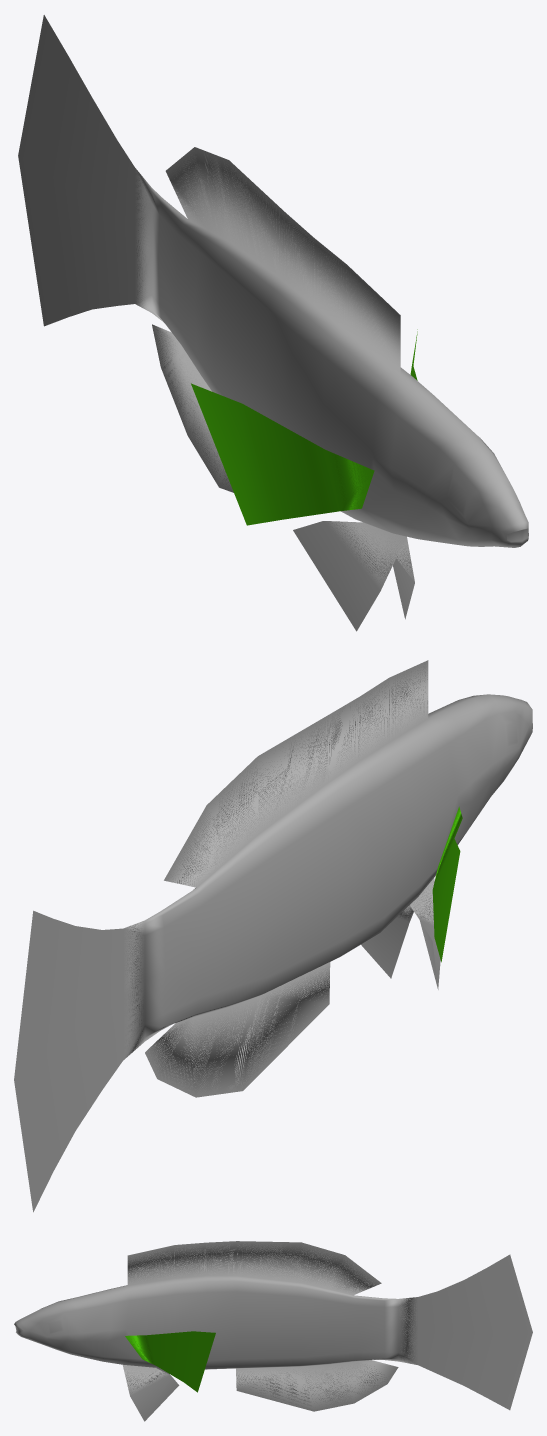
File: Labridae_B_S.fbx
3 views of the same model, one above another, from view 1: azimuth 30°, elevation 25°; view 2: azimuth 150°, elevation 25°; view 3: azimuth 270°, elevation 25° (orthographic). The views are drawn at different scales.
Visible parts, largest first — view 1: Labridae_B_S_Mesh; view 2: Labridae_B_S_Mesh; view 3: Labridae_B_S_Mesh.
Boxes of the visible parts, box(x1,y1,x2,y2) form: Labridae_B_S_Mesh: box(18, 15, 528, 631); Labridae_B_S_Mesh: box(14, 660, 532, 1212); Labridae_B_S_Mesh: box(14, 1241, 532, 1421).
Size of the model in its own units: 0.00264 by 0.00388 by 0.0104.
